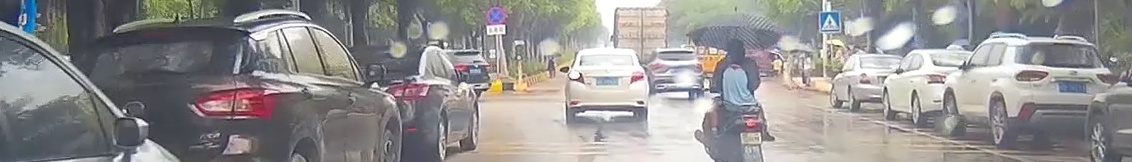L_light: (567, 70, 585, 85), (651, 60, 666, 71)
R_light: (629, 71, 645, 85), (692, 63, 703, 73)
T_light: (601, 63, 614, 65), (672, 51, 682, 52)
day-left: (565, 48, 649, 126)
day-no: (650, 48, 704, 100)
